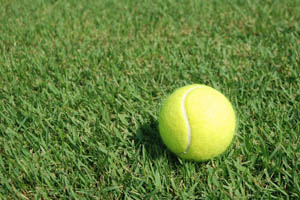tennis_ball: (157, 84, 236, 166)
